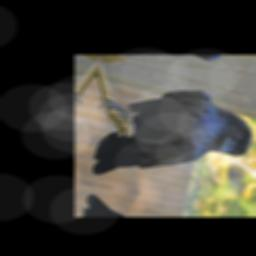Crow: (86, 71, 256, 203)
